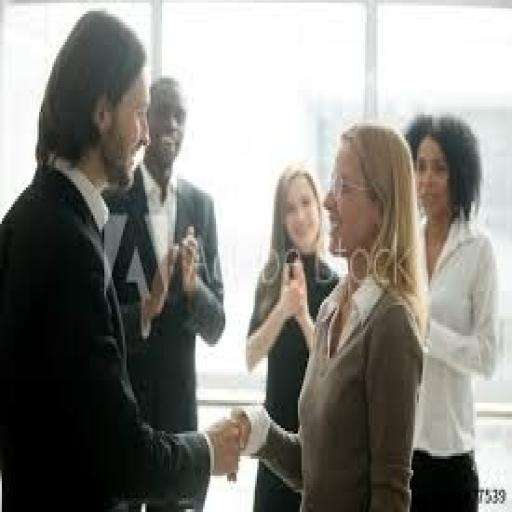clapping: (86, 75, 242, 451), (402, 112, 501, 509), (244, 160, 341, 509)
